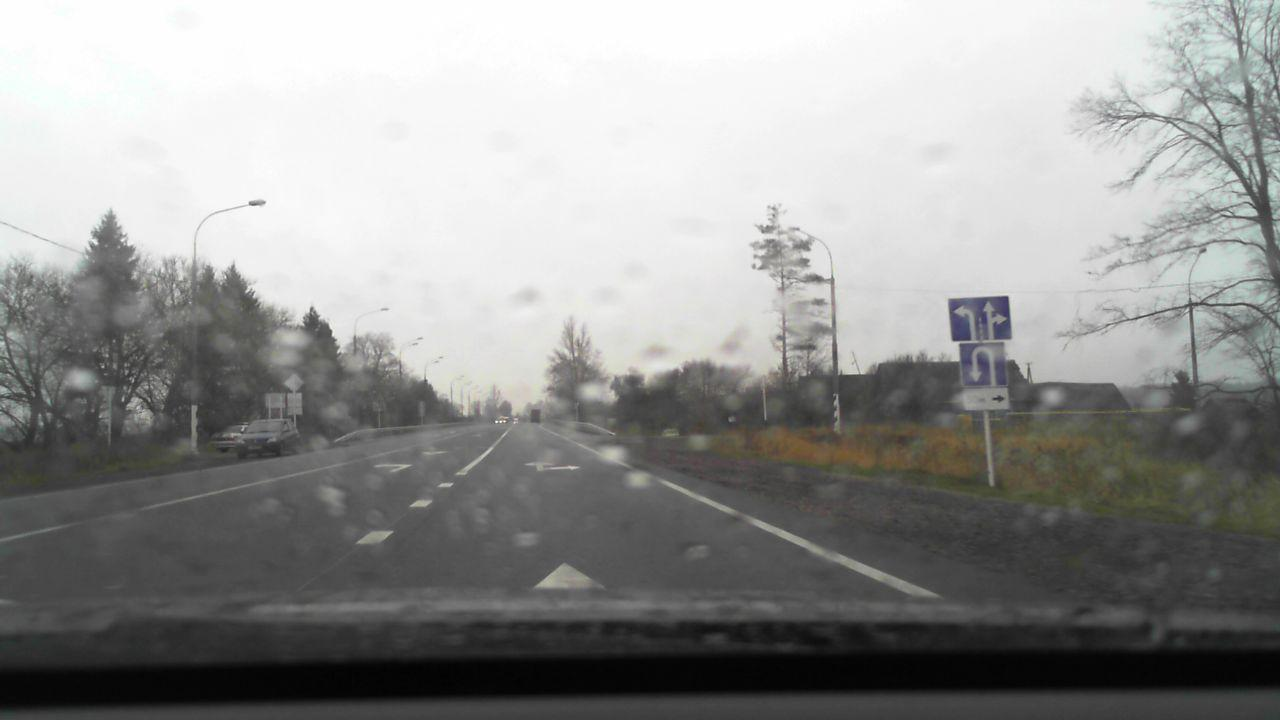5_15_1: (948, 297, 1015, 340)
6_3_1: (959, 343, 1006, 388)
8_1_3: (961, 389, 1011, 409)
